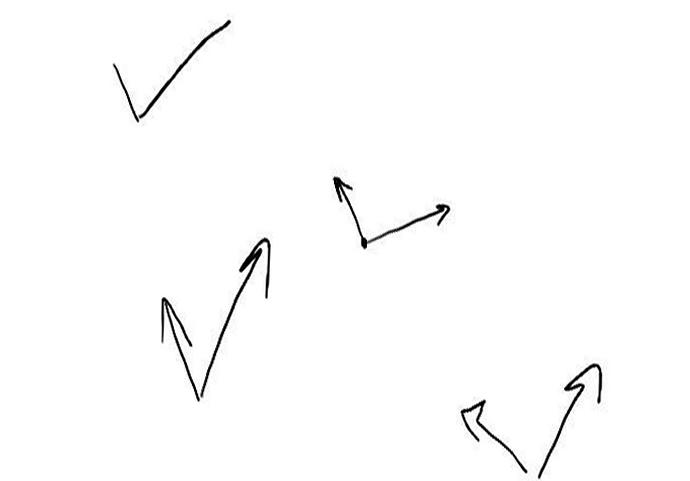arrow: (200, 237, 271, 392), (540, 361, 604, 475), (458, 397, 528, 475), (159, 297, 201, 403), (366, 202, 451, 242), (332, 173, 365, 239)
arrownohead: (138, 19, 231, 113), (112, 62, 137, 121)
